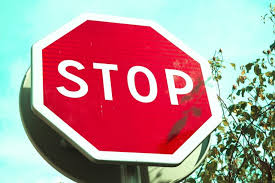stop sign: (30, 13, 223, 166)
